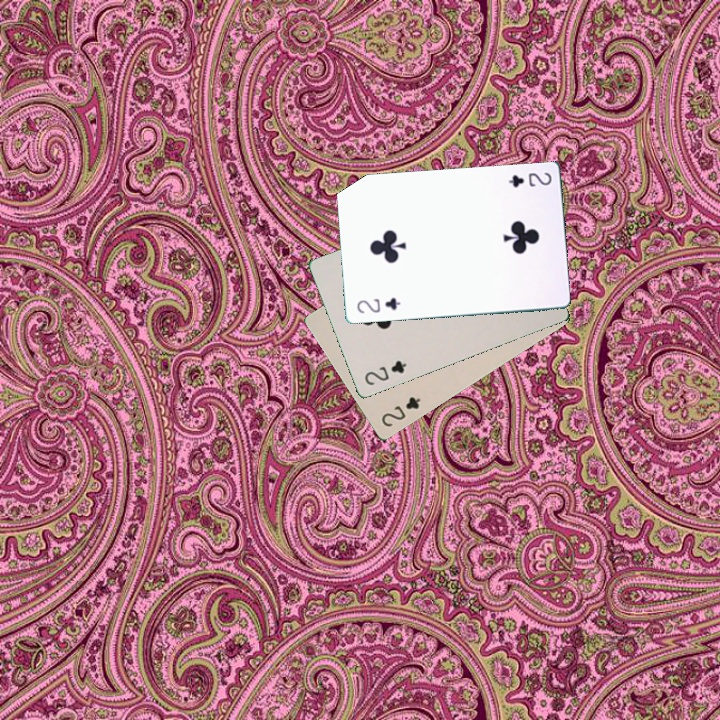2c: (377, 392, 423, 430), (360, 356, 409, 388), (353, 293, 403, 316), (505, 168, 554, 190)
